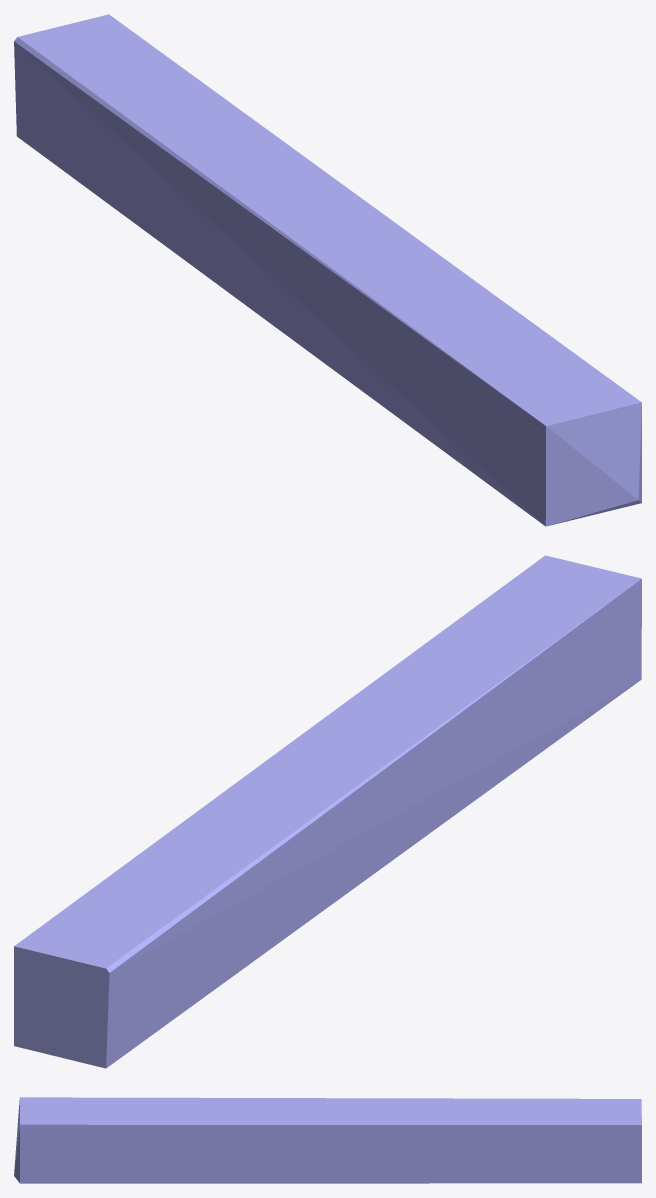
The model's file is dvkr_robot_L2_respondable_ECM_coll_1.dae.
3 views of the same model, one above another, from view 1: azimuth 30°, elevation 25°; view 2: azimuth 150°, elevation 25°; view 3: azimuth 270°, elevation 25° (orthographic). The views are drawn at different scales.
Visible parts, largest first — view 1: Node_0000023514CD6980; view 2: Node_0000023514CD6980; view 3: Node_0000023514CD6980.
Boxes of the visible parts, x1,y1,x2,y2 form: Node_0000023514CD6980: (14, 14, 641, 526); Node_0000023514CD6980: (14, 555, 641, 1068); Node_0000023514CD6980: (14, 1097, 641, 1183).
Bounding box in the file's own units: 0.0505 × 0.0506 × 0.4885.
